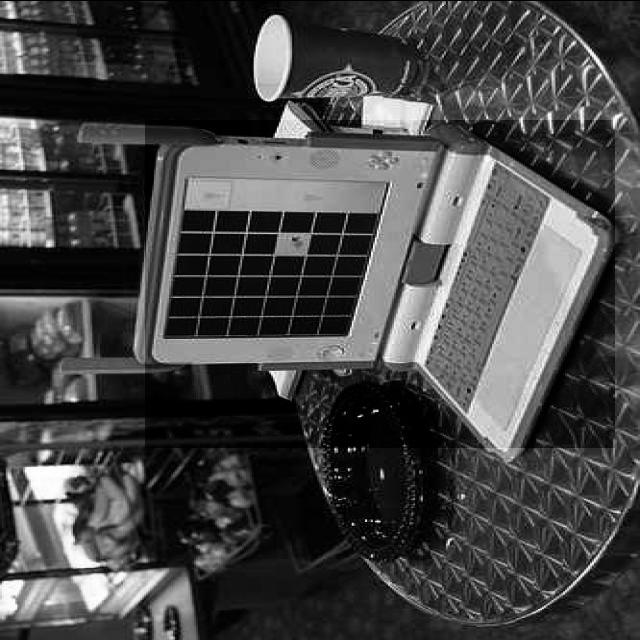-keyboard-: (145, 120, 615, 448)
